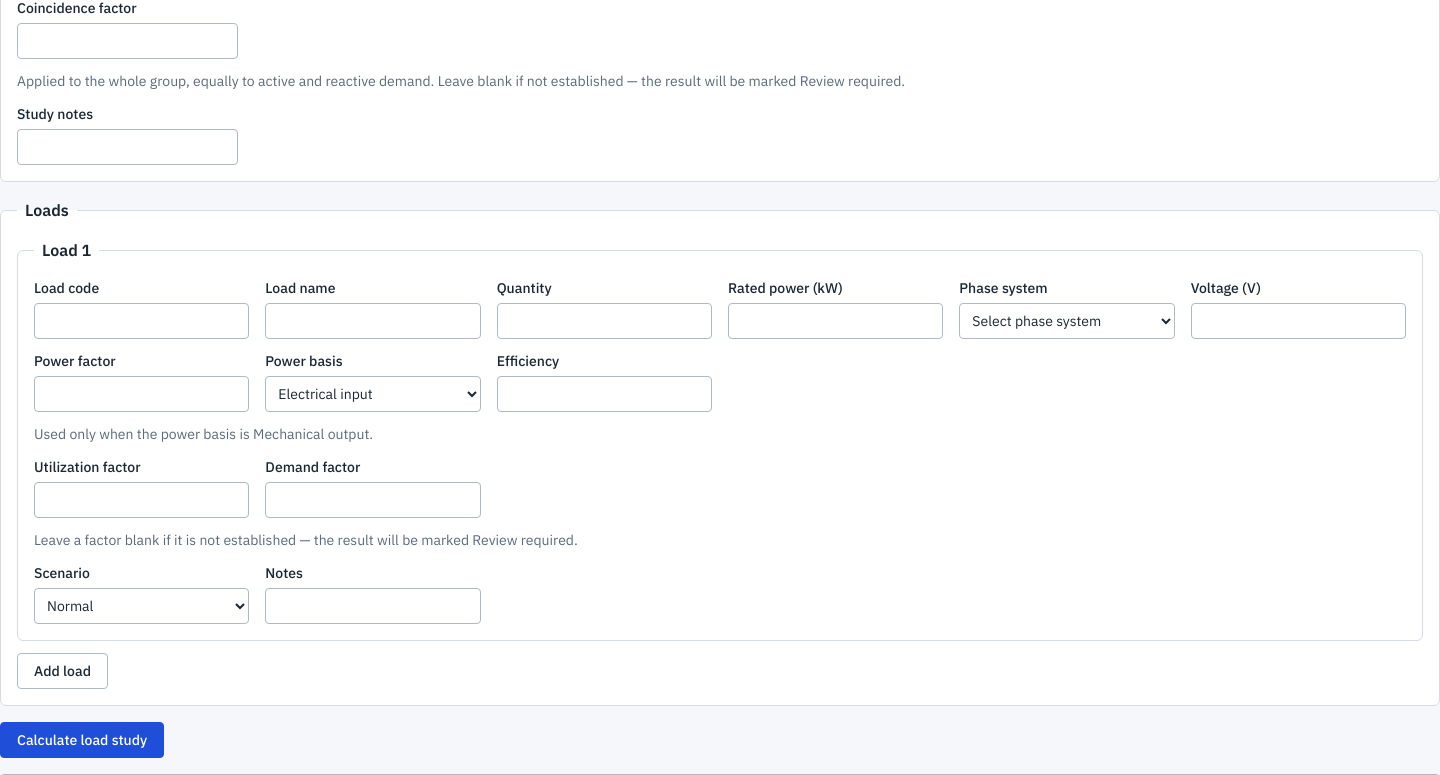
Test case: LoadStudyForm › names the missing study field and calculates nothing
The image size is (1440, 775).
(page scrolled)
Click the button "Calculate load study": (82, 740) left=0, top=722, right=164, bottom=758
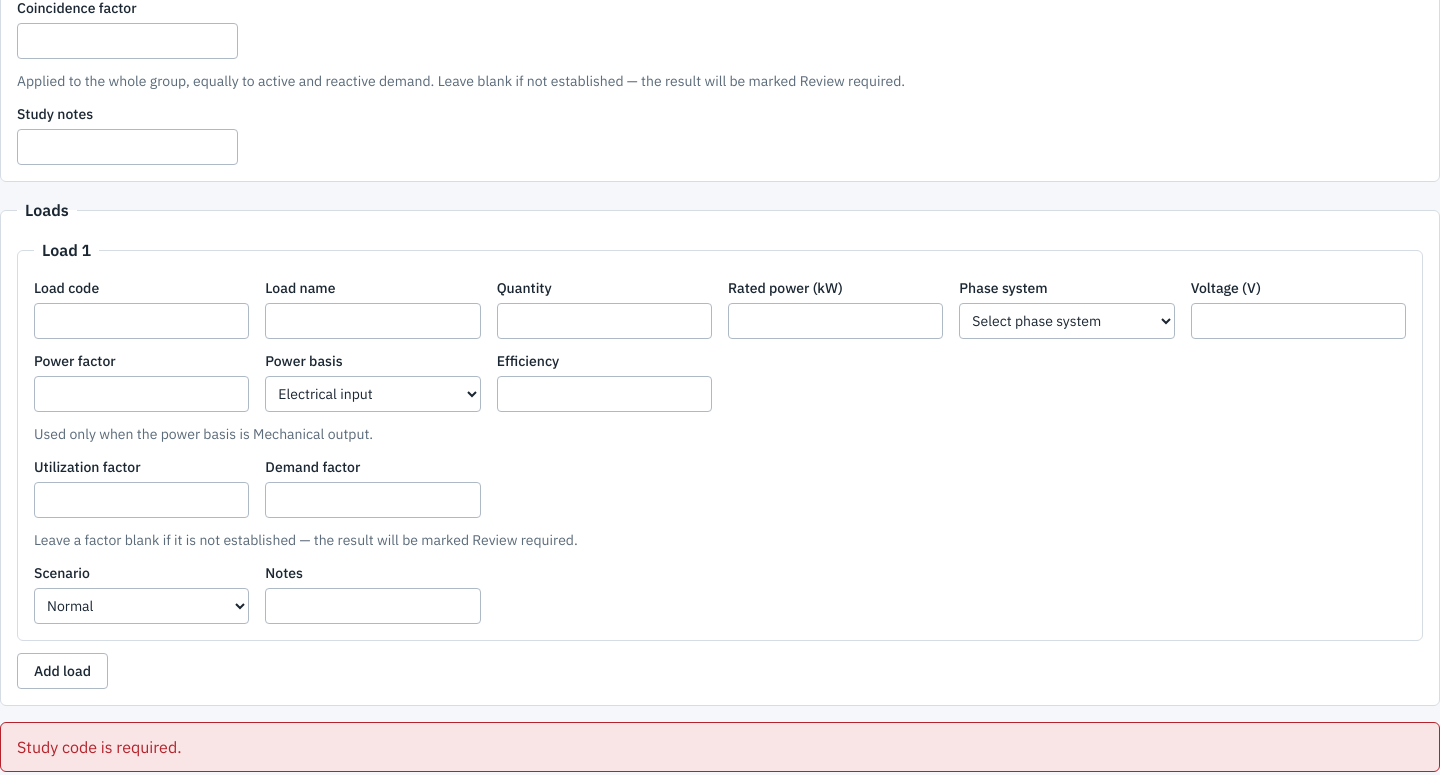
Expected: the message reads "Study code is required.", left=17, top=737, right=182, bottom=757
